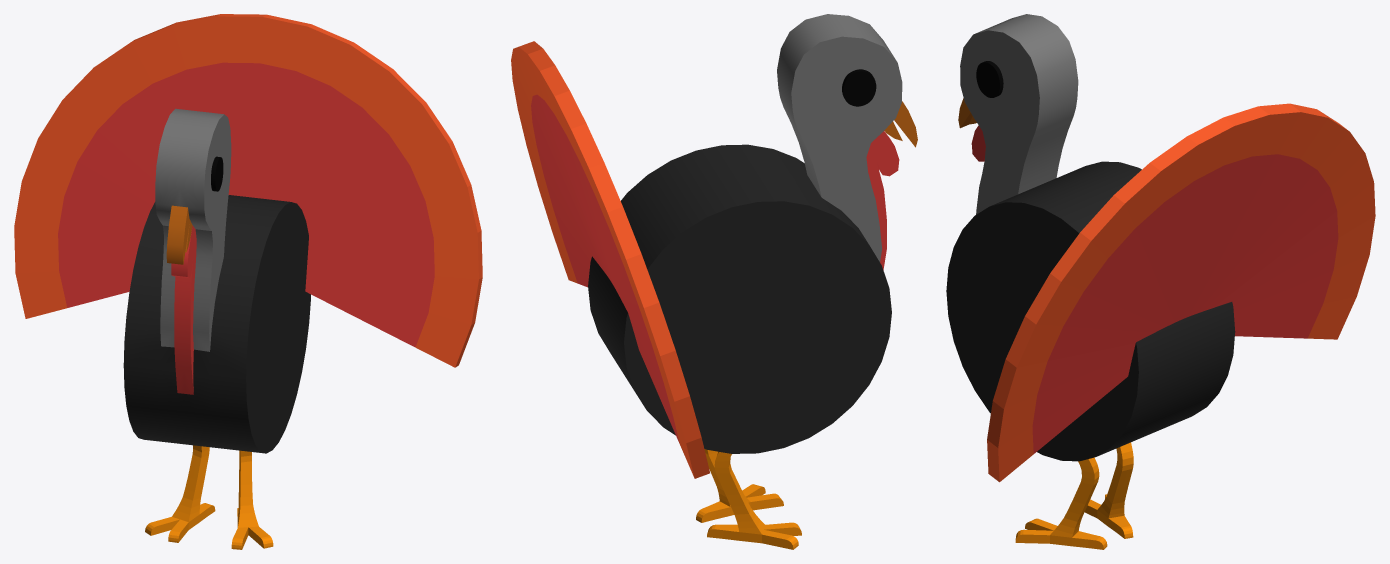
Rendered from turkey.glb.
3 renders of one model, left to right at view 1: azimuth 30°, elevation 25°; view 2: azimuth 150°, elevation 25°; view 3: azimuth 270°, elevation 25°, orthographic. The views are drawn at different scales.
Visible parts, largest first — view 1: Circle.1937, Circle.1936, Cube.6303; view 2: Circle.1936, Circle.1937, Cube.6303, Circle.1938; view 3: Circle.1937, Circle.1936, Cube.6303, Circle.1938.
Part boxes in pixels (x1,y1,x2,y2): Circle.1937: (14,14,482,367); Circle.1936: (123,108,310,453); Cube.6303: (145,445,273,549); Circle.1936: (588,14,917,453); Circle.1937: (511,41,709,478); Cube.6303: (696,449,801,549); Circle.1938: (842,69,876,106); Circle.1937: (987,103,1375,482); Circle.1936: (946,14,1235,461); Cube.6303: (1015,442,1133,549); Circle.1938: (976,61,1003,97).
Size of the model in its own units: 1.73 by 2.13 by 1.73.
1 material, 1 textured.
